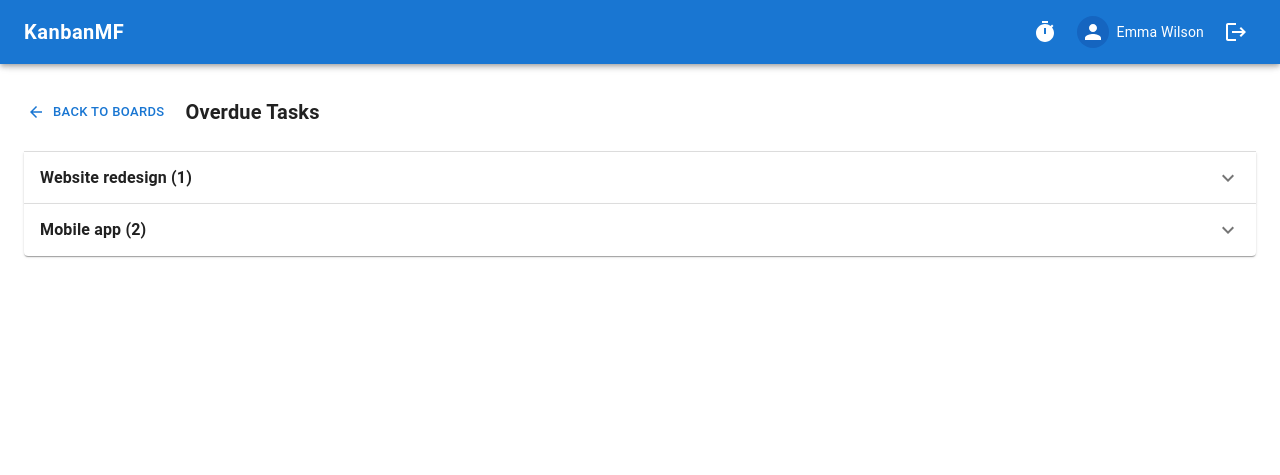
Test: OverdueTasks › what it shows › shows each board folded, with how many cards are overdue, and its lists with their cards once unfolded
Click the button "Mobile app (2)".
click(81, 230)  # box 24,204 -> 1256,256
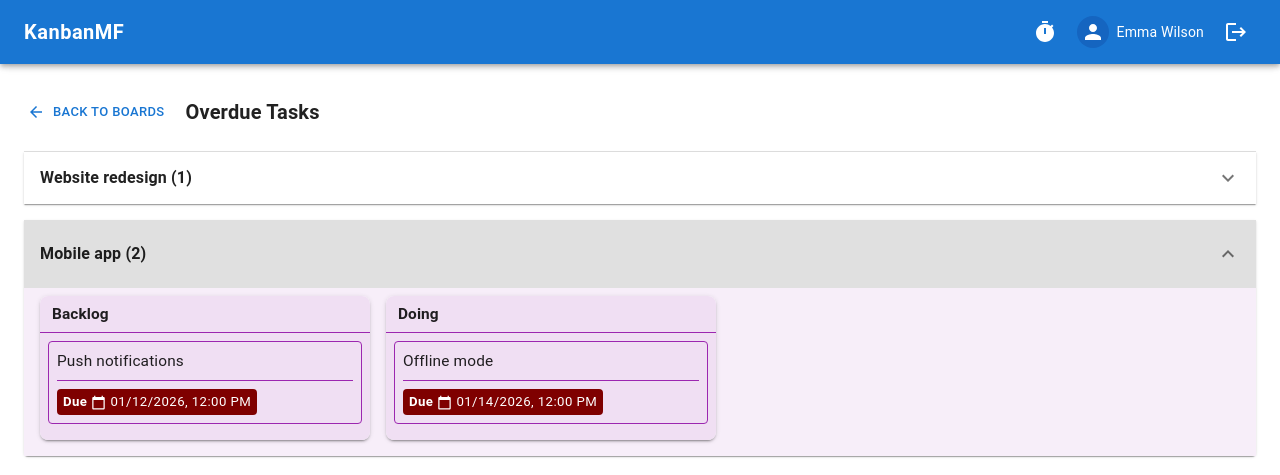
Now the button "Mobile app (2)" is expanded, box 24,220 -> 1256,288
Now the heading "Backlog" is shown, box 52,305 -> 109,323
Now the heading "Doing" is shown, box 398,305 -> 439,323
